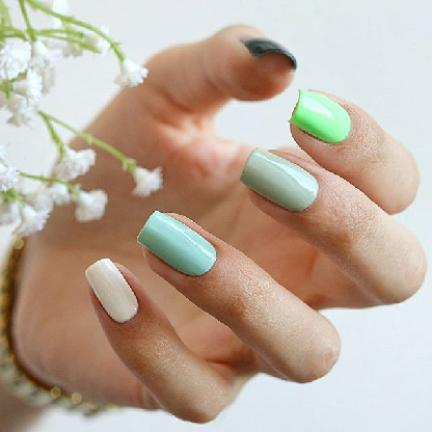Nail: (138, 211, 216, 276), (240, 148, 319, 211), (85, 258, 138, 323), (289, 89, 351, 143), (241, 38, 297, 70)
